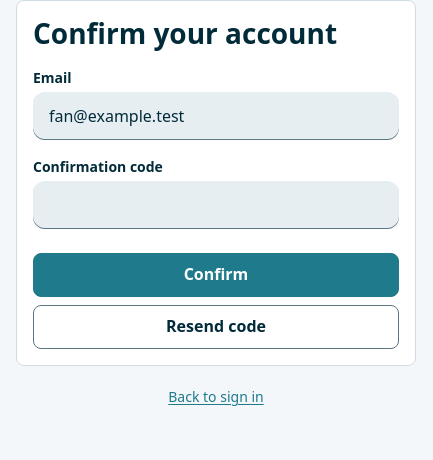
ConfirmPage in the narrow form card › renders the resend notice through StatusLine, neutral (criterion 3)
The width and height of the screenshot is (433, 460).
Click the button "Resend code": (216, 327) 33,305 -> 399,349
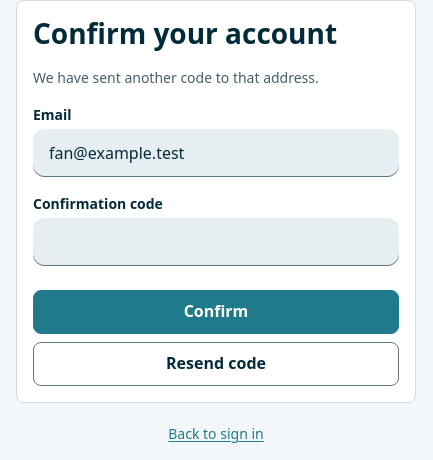
Now the message reads "We have sent another code to that address.", box 33,68 -> 319,87
